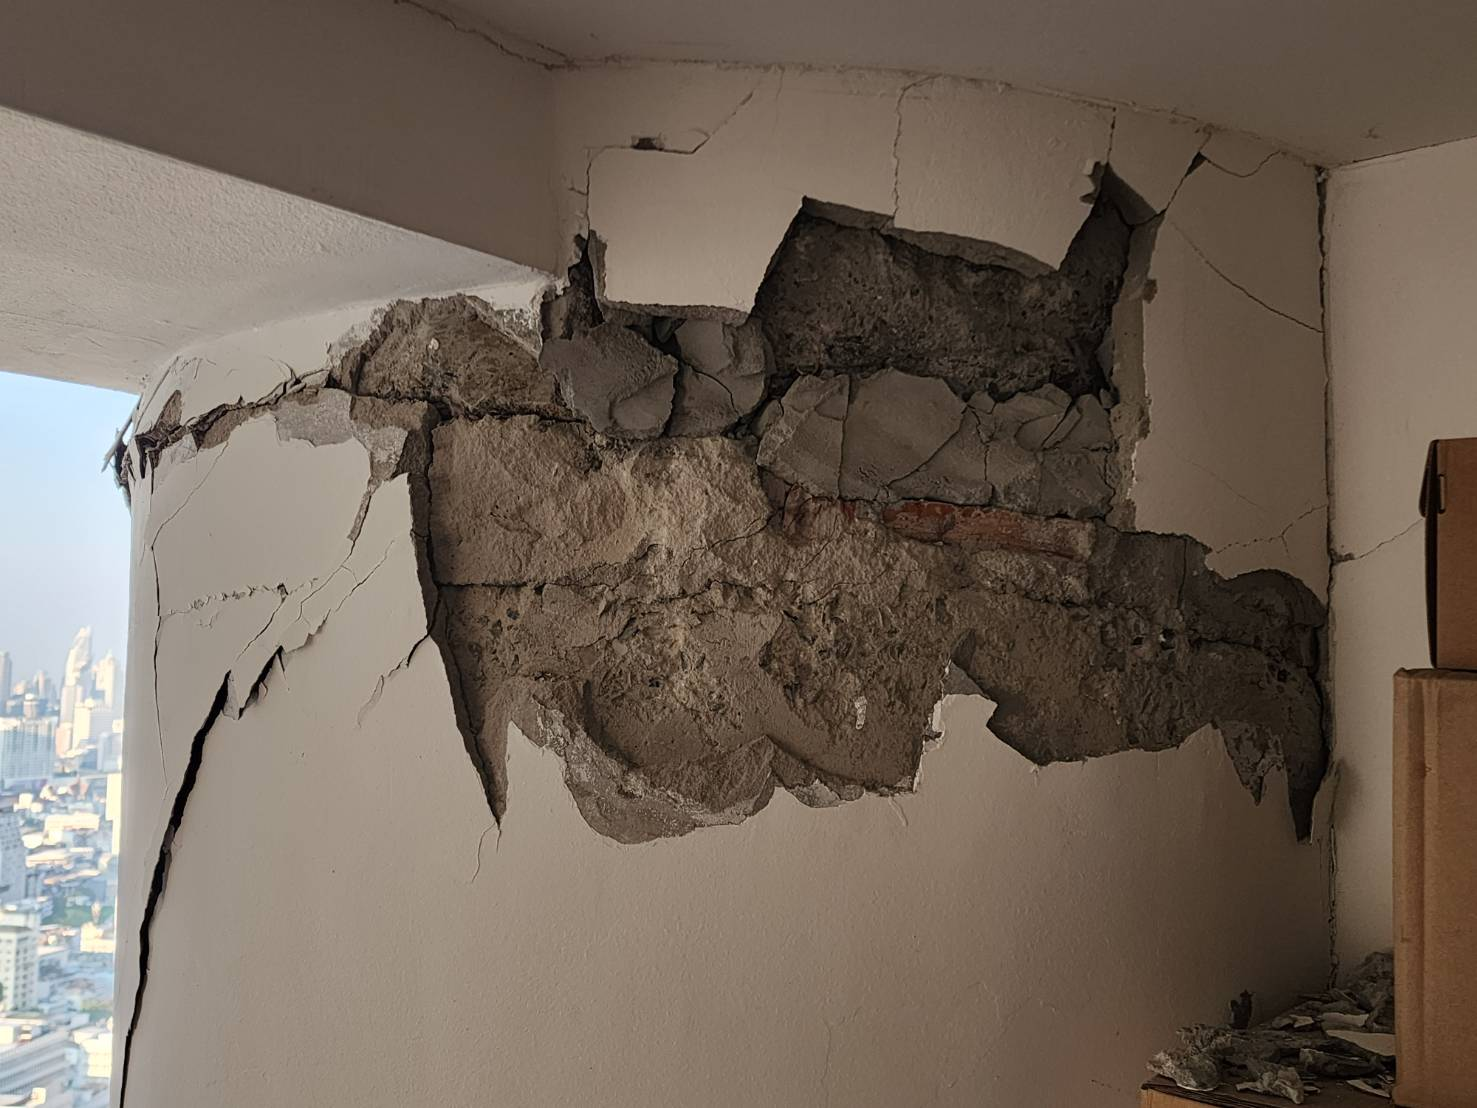High: (132, 154, 1362, 983)
